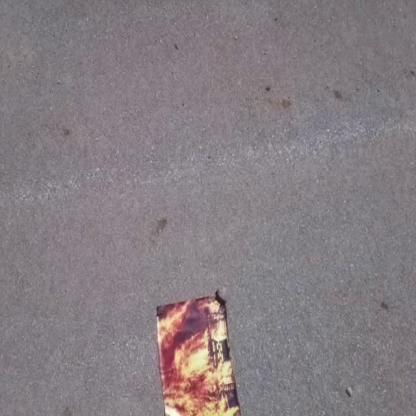fire-poster: (154, 289, 242, 415)
